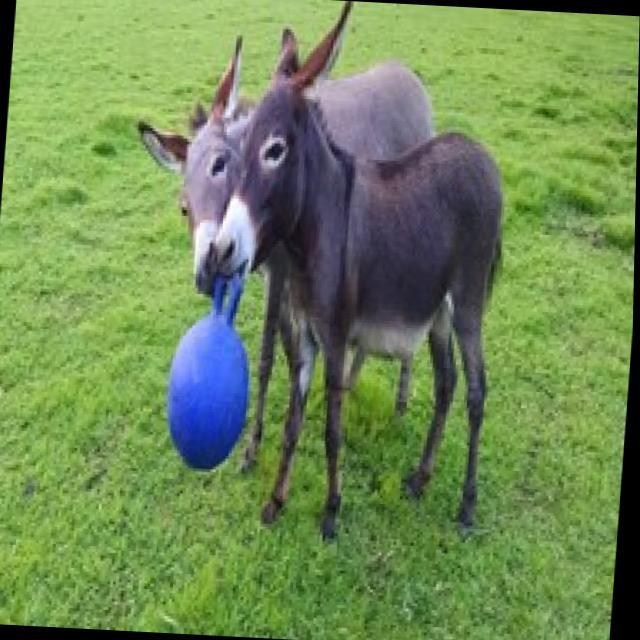Donkey: (191, 24, 564, 576), (130, 11, 467, 363)
